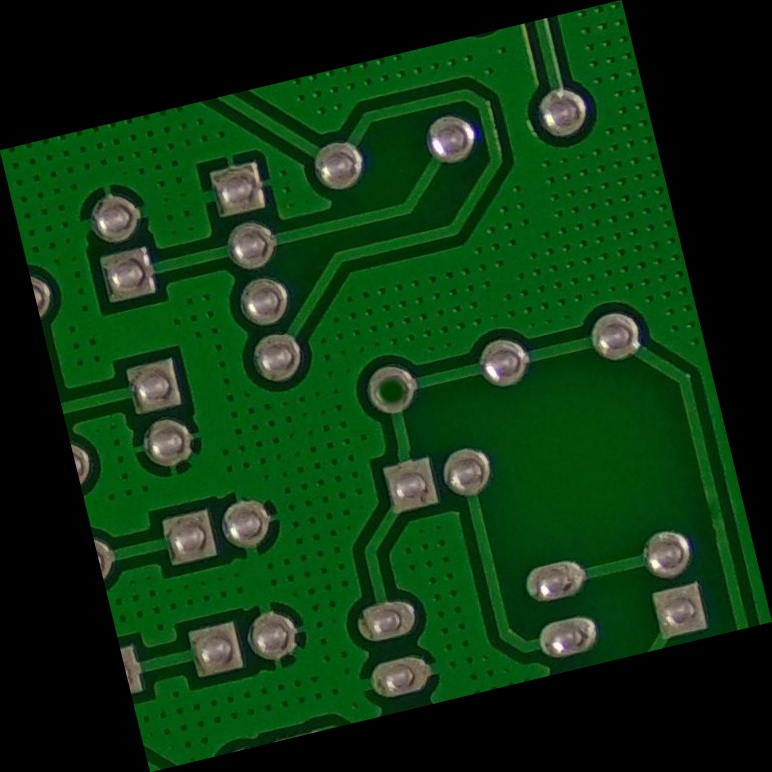missing_hole: (346, 347, 427, 426)
